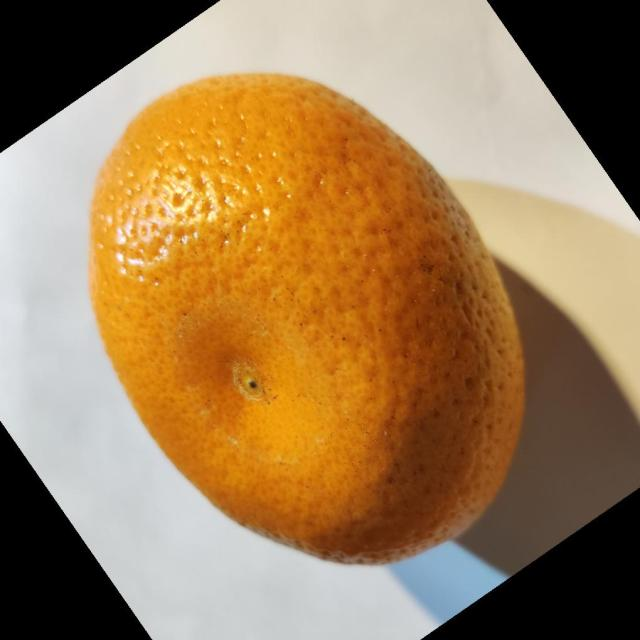fresh orange: (87, 70, 527, 566)
